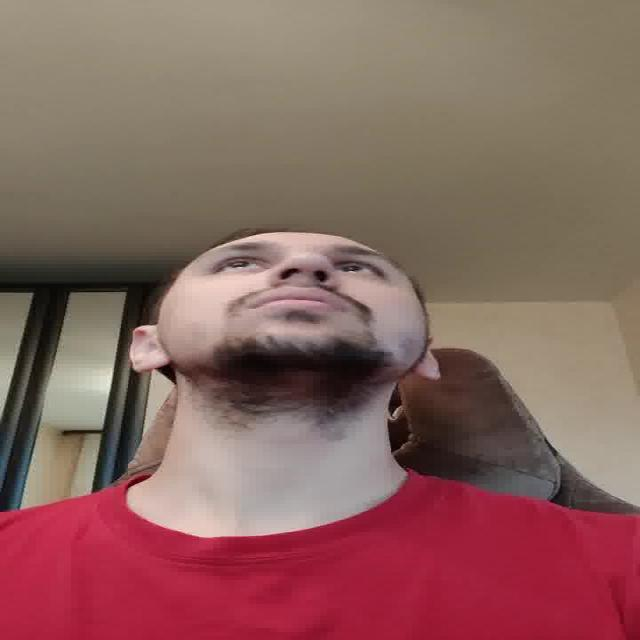earlobe: (411, 365, 444, 381), (135, 359, 173, 372)
eye: (216, 259, 268, 272), (340, 261, 382, 277)
nose: (266, 274, 339, 290)
wholeear: (129, 323, 175, 372), (410, 350, 442, 380)
